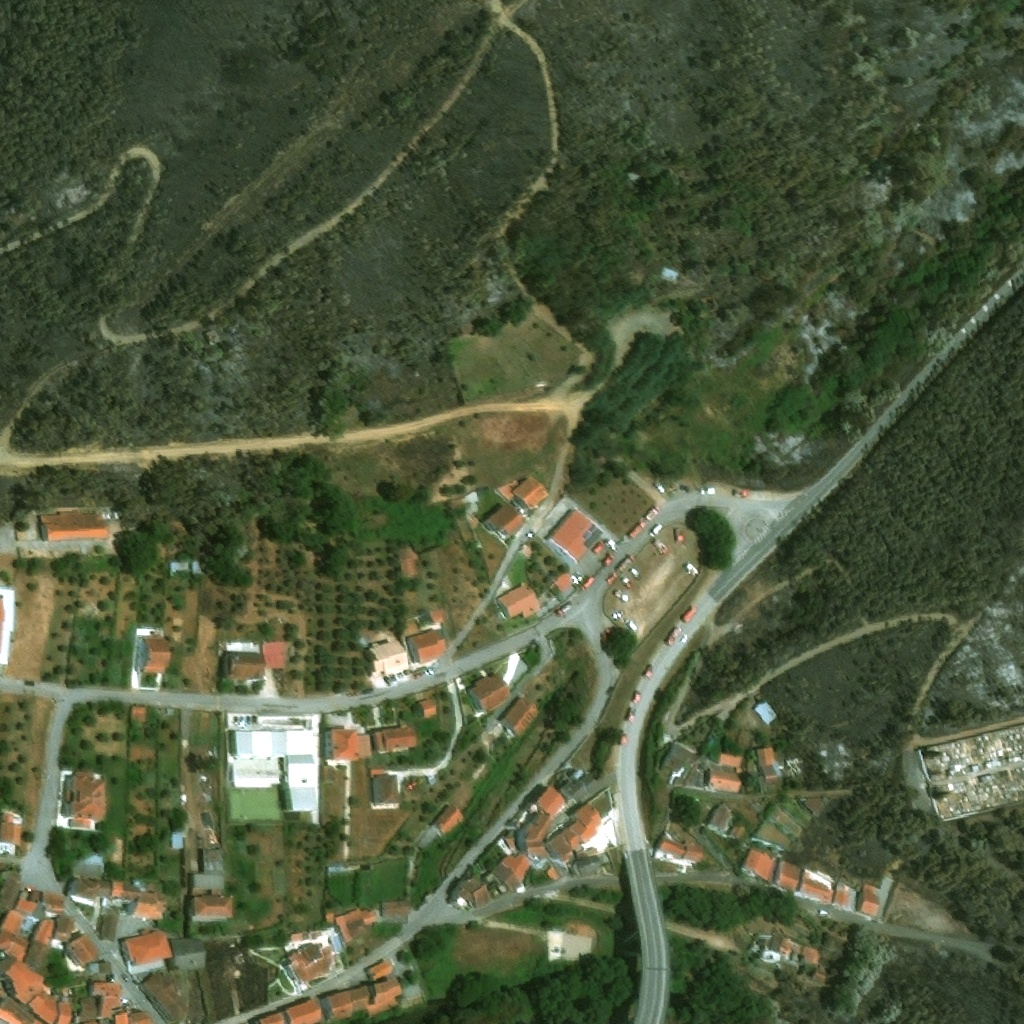0 no-damage: (229, 731, 319, 813), (545, 510, 604, 563), (61, 766, 107, 831), (0, 956, 54, 1005), (137, 973, 191, 1022), (222, 641, 286, 681), (111, 879, 167, 920), (40, 511, 111, 542), (280, 944, 332, 986), (324, 909, 377, 947), (468, 674, 513, 716), (319, 985, 368, 1023), (518, 810, 555, 860), (122, 931, 173, 966), (323, 728, 370, 765), (495, 583, 542, 620), (498, 476, 548, 510), (498, 698, 539, 739), (0, 983, 42, 1023), (189, 849, 225, 895), (490, 853, 531, 893), (367, 639, 409, 678), (364, 976, 402, 1018), (0, 911, 31, 962), (482, 505, 525, 540), (406, 629, 446, 666), (560, 772, 601, 808), (32, 915, 75, 947), (742, 846, 778, 883), (451, 875, 489, 910), (532, 784, 567, 820), (63, 935, 102, 967), (68, 878, 111, 907), (141, 638, 175, 674), (189, 894, 232, 922), (372, 727, 418, 753), (90, 983, 122, 1019), (169, 938, 205, 970), (369, 769, 399, 807), (799, 871, 833, 904), (570, 801, 602, 836), (562, 820, 594, 854), (661, 743, 695, 775), (29, 893, 64, 922), (653, 834, 686, 864), (0, 870, 23, 913), (284, 997, 322, 1023), (774, 859, 802, 892), (758, 745, 781, 785), (433, 806, 463, 836), (70, 852, 104, 878), (707, 769, 742, 794), (26, 995, 57, 1023), (706, 803, 733, 835), (546, 831, 574, 861), (23, 940, 50, 970), (859, 884, 882, 918), (0, 814, 23, 846), (15, 891, 41, 918), (833, 884, 857, 912), (780, 937, 804, 964), (98, 914, 120, 943), (573, 855, 602, 876), (398, 549, 419, 578), (363, 962, 393, 982), (760, 935, 781, 963), (753, 701, 776, 725), (380, 900, 409, 919), (717, 751, 742, 772), (803, 798, 828, 819), (552, 571, 574, 593), (681, 844, 704, 865), (113, 1011, 153, 1023), (129, 704, 147, 728), (248, 1011, 283, 1023), (54, 1000, 72, 1023), (289, 931, 322, 943), (58, 975, 86, 989), (80, 998, 97, 1021), (416, 698, 436, 717), (801, 945, 820, 965), (727, 822, 747, 840), (86, 962, 112, 975), (543, 865, 561, 882), (812, 967, 828, 984), (170, 830, 183, 850), (503, 833, 516, 851), (168, 561, 188, 572), (430, 610, 445, 623), (191, 560, 203, 575), (167, 709, 175, 716)
1 minor-damage: (206, 329, 225, 348)
2 major-damage: (785, 754, 804, 774)
4 un-classified: (369, 861, 404, 903), (0, 595, 5, 652), (212, 678, 221, 693)
